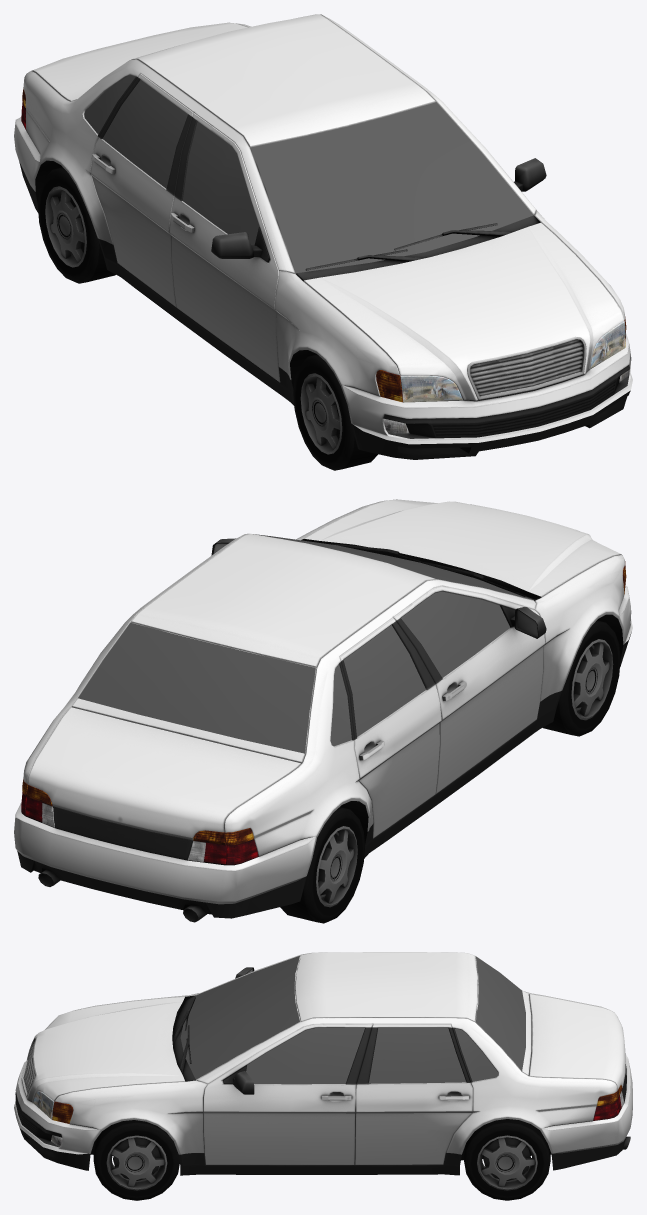
The model's file is Sedan.glb.
The picture shows the model from 3 angles, top to bottom: view 1: azimuth 30°, elevation 25°; view 2: azimuth 150°, elevation 25°; view 3: azimuth 270°, elevation 25°; orthographic projection. The views are drawn at different scales.
Visible parts, largest first — view 1: Sedan Body, Wheel_A002, Wheel_A003; view 2: Sedan Body, Wheel_A003, Wheel_A002; view 3: Sedan Body, Wheel_A001, Wheel_A.
Part boxes in pixels (x1,y1,x2,y2): Sedan Body: [14, 14, 632, 459]; Wheel_A002: [293, 354, 377, 470]; Wheel_A003: [38, 167, 115, 283]; Sedan Body: [14, 499, 632, 922]; Wheel_A003: [280, 807, 364, 923]; Wheel_A002: [543, 620, 620, 736]; Sedan Body: [14, 952, 632, 1175]; Wheel_A001: [464, 1119, 550, 1200]; Wheel_A: [93, 1120, 179, 1200].
Size of the model in its own units: 2.18 by 1.51 by 4.91.
4 materials, 3 textured.
